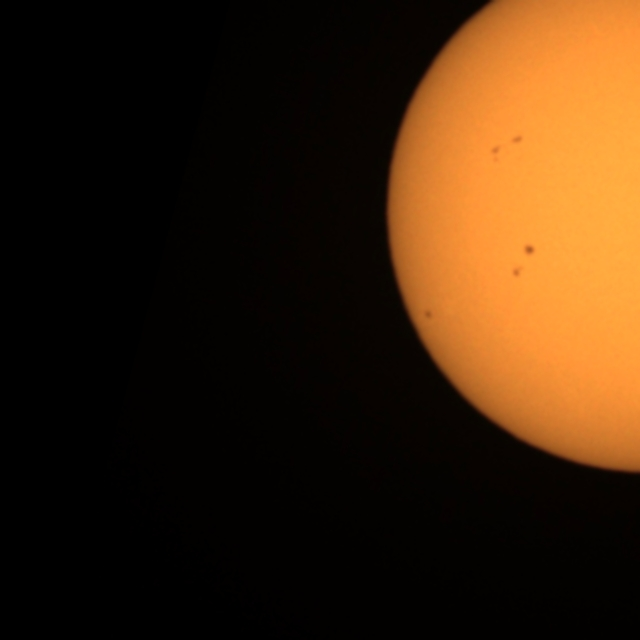sunspot: (488, 133, 525, 166), (509, 242, 538, 282), (488, 143, 504, 166), (521, 241, 539, 259), (422, 307, 434, 322)
